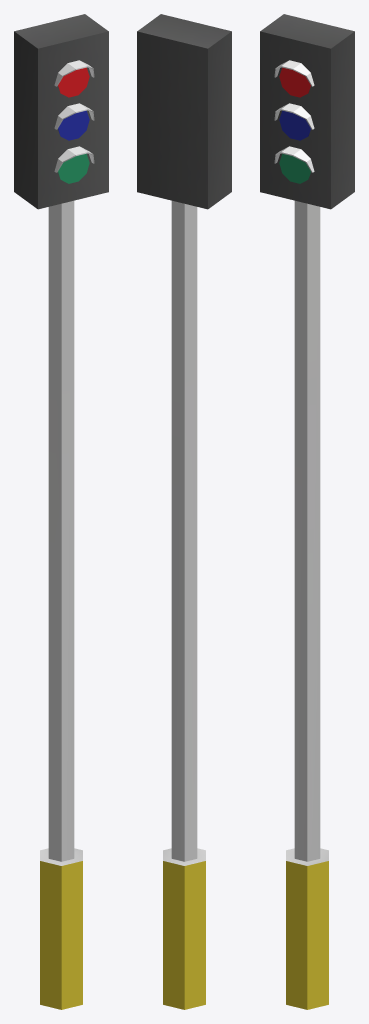
Rendered from semaforo_1.FBX.
The picture shows the model from 3 angles, left to right: view 1: azimuth 30°, elevation 25°; view 2: azimuth 150°, elevation 25°; view 3: azimuth 330°, elevation 25°; orthographic projection.
Parts seen in each view (by area): view 1: Cylinder001; view 2: Cylinder001; view 3: Cylinder001.
Part boxes in pixels (x1,y1,x2,y2): Cylinder001: (14, 14, 108, 1009); Cylinder001: (137, 14, 231, 1009); Cylinder001: (260, 14, 354, 1009).
Bounding box in the file's own units: 22.65 × 296 × 17.77.
